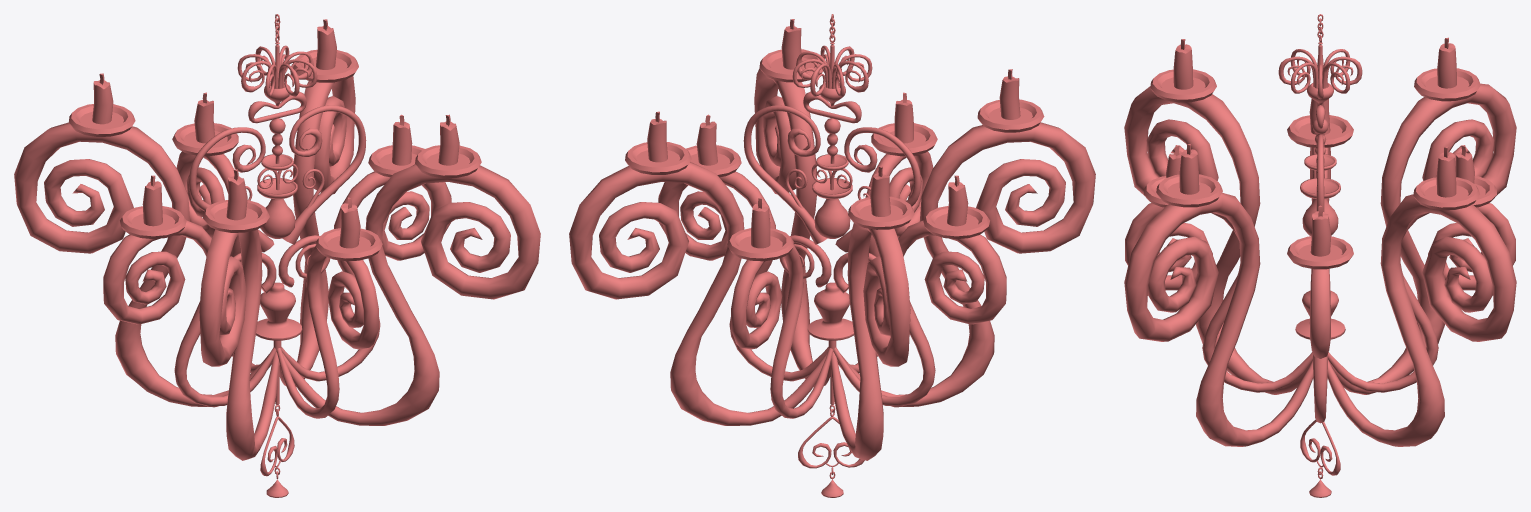
File: Mesh_Candelabro_v001.fbx
3 views of the same model, side by side, from view 1: azimuth 30°, elevation 25°; view 2: azimuth 150°, elevation 25°; view 3: azimuth 270°, elevation 25° (orthographic).
Parts seen in each view (by area): view 1: Mesh_Candelabro_v001; view 2: Mesh_Candelabro_v001; view 3: Mesh_Candelabro_v001.
Boxes of the visible parts, x1=… form: Mesh_Candelabro_v001: x1=14, y1=14, x2=540, y2=497; Mesh_Candelabro_v001: x1=569, y1=14, x2=1095, y2=497; Mesh_Candelabro_v001: x1=1124, y1=14, x2=1516, y2=497.
Bounding box in the file's own units: 3.07 × 4.04 × 3.
